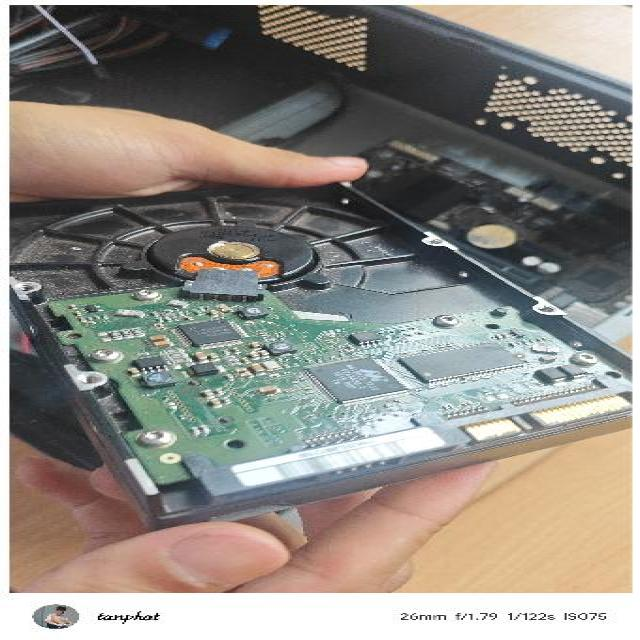DISK: (5, 177, 635, 535)
